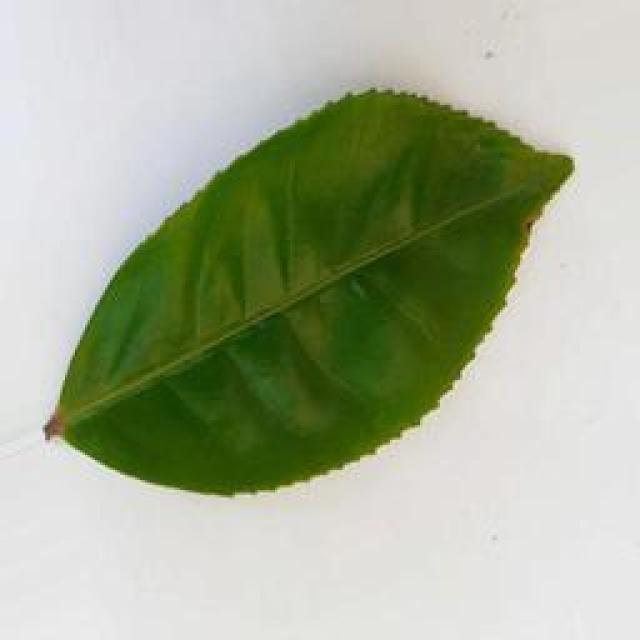Healthy: (39, 80, 575, 507)
